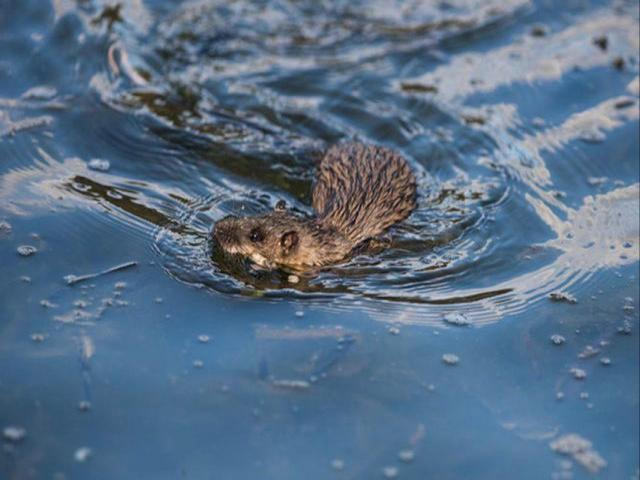Tikus: (212, 140, 420, 276)
